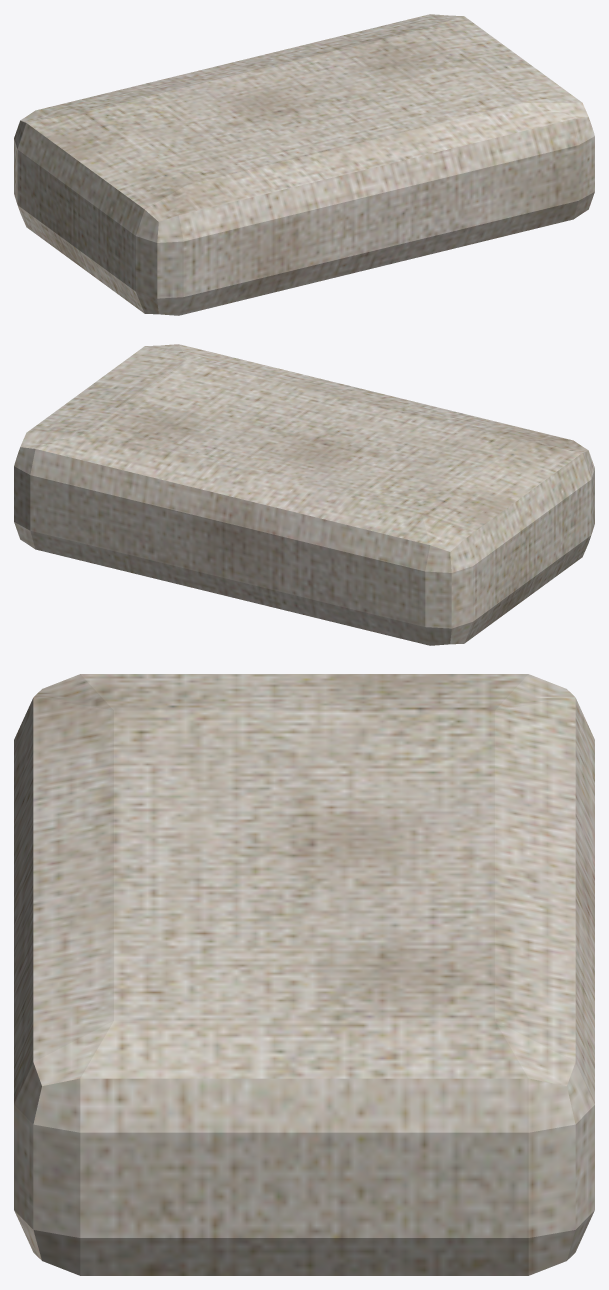
File: Sandbag.fbx
3 views of the same model, one above another, from view 1: azimuth 30°, elevation 25°; view 2: azimuth 150°, elevation 25°; view 3: azimuth 270°, elevation 25° (orthographic). The views are drawn at different scales.
Visible parts, largest first — view 1: Sandbag; view 2: Sandbag; view 3: Sandbag.
Part boxes in pixels (bbox=[...]): Sandbag: bbox=[14, 14, 594, 315]; Sandbag: bbox=[14, 344, 594, 645]; Sandbag: bbox=[14, 674, 594, 1275].
Size of the model in its own units: 60 by 14.53 by 35.
Materials: 1 (1 with a texture image).
